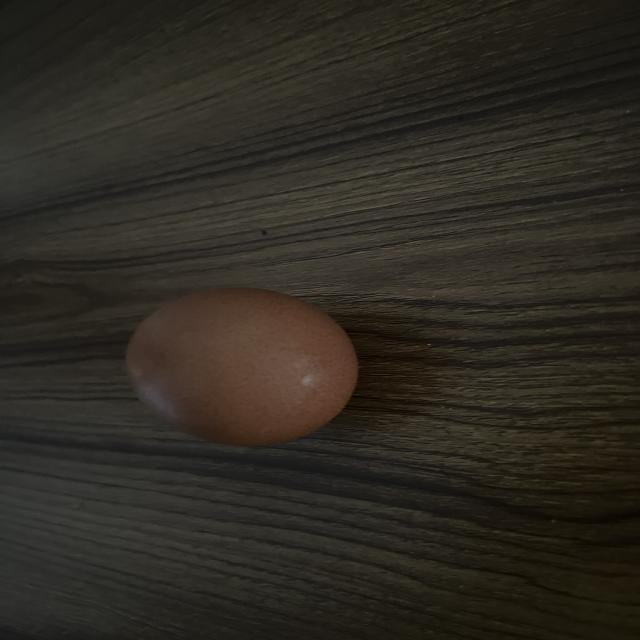Egg: (122, 284, 369, 452)
